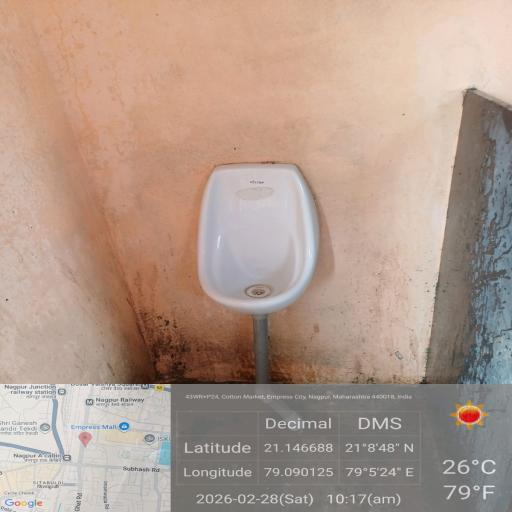clean_floor: (0, 10, 481, 143)
clean_urinal: (148, 130, 328, 331)
dirty_floor: (44, 296, 512, 512)
